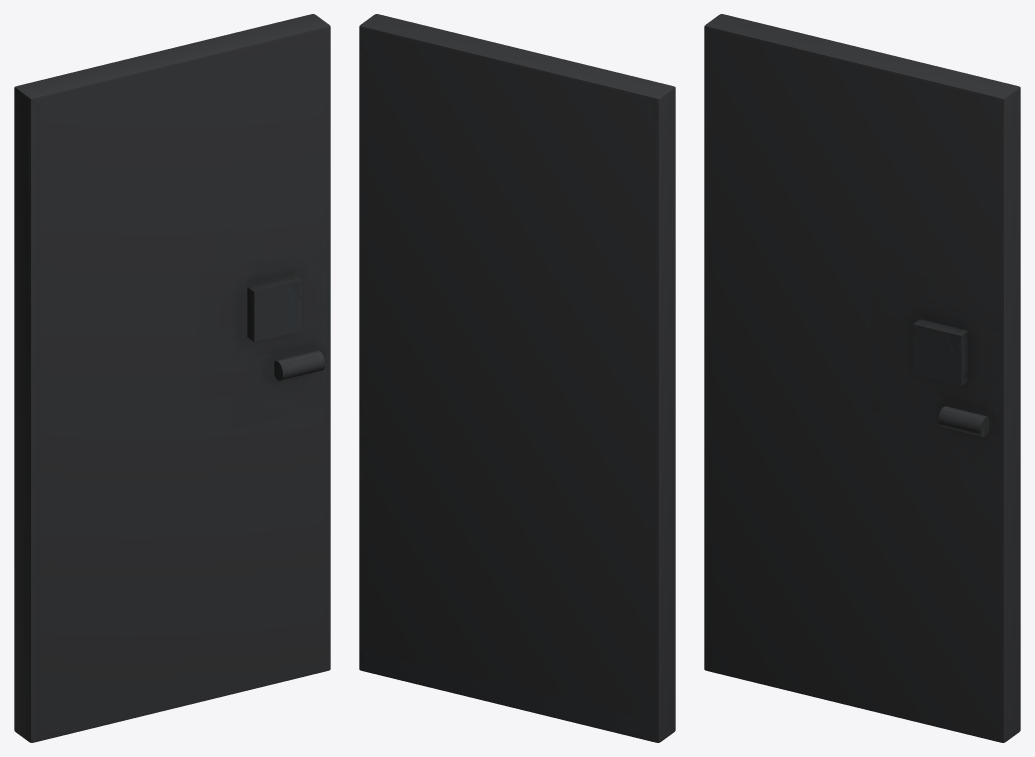
File: BD_door_metal.glb
3 renders of one model, left to right at view 1: azimuth 30°, elevation 25°; view 2: azimuth 150°, elevation 25°; view 3: azimuth 330°, elevation 25°, orthographic.
Visible parts, largest first — view 1: BD_door_metal; view 2: BD_door_metal; view 3: BD_door_metal.
Boxes of the visible parts, box(x1,y1,x2,y2) form: BD_door_metal: box(14, 14, 330, 742); BD_door_metal: box(359, 14, 675, 742); BD_door_metal: box(704, 14, 1020, 742).
Size of the model in its own units: 1 by 2.05 by 0.15.
Materials: 1 (1 with a texture image).
